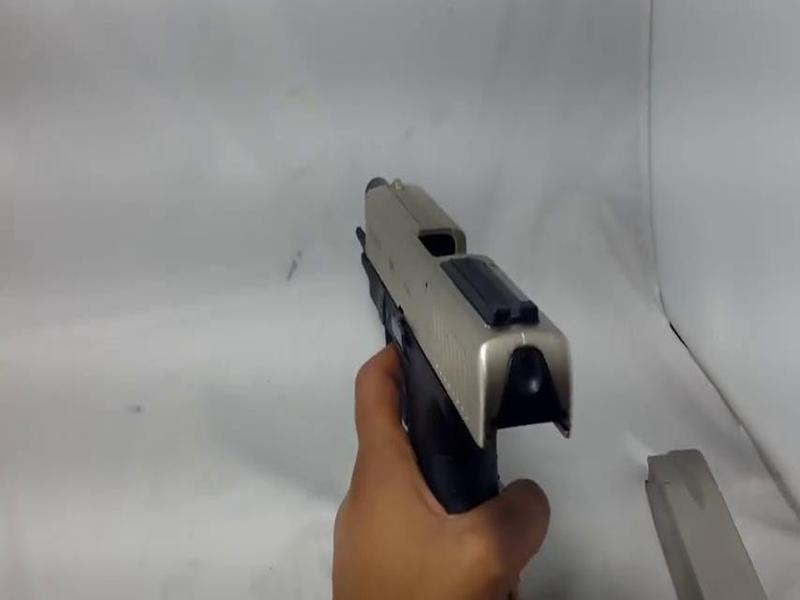Pistola: (327, 162, 587, 600)
